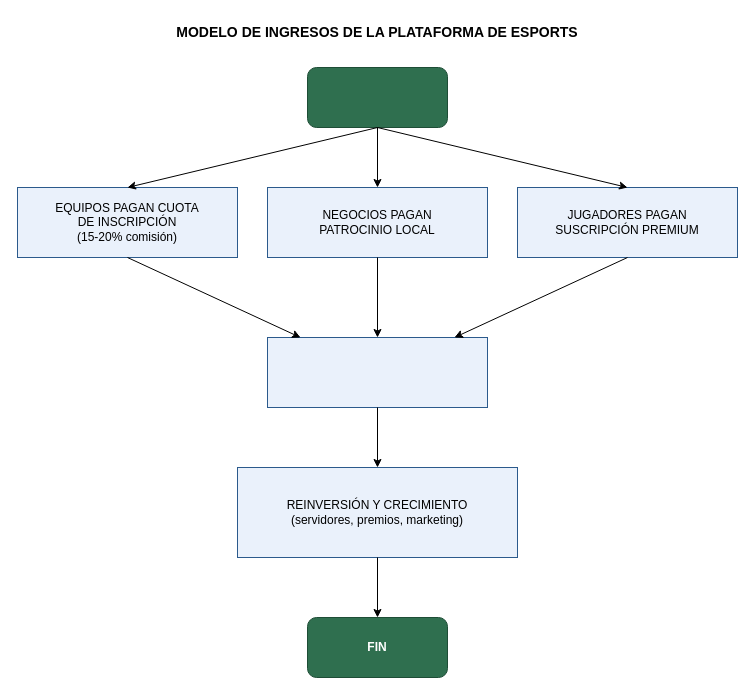
Some shapes in this 755 by 695 pixel diagram are drawn without their labels. The box of each missing label's shape, as (x1, y1, x2, y2) in pixels:
INGRESOS TOTALES DE LA PLATAFORMA: (266, 336, 488, 408)
INICIO: (306, 66, 448, 128)
